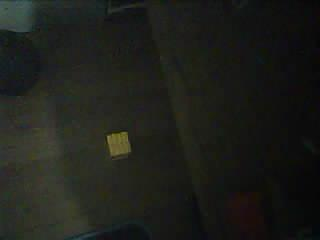lego: (106, 130, 131, 156)
